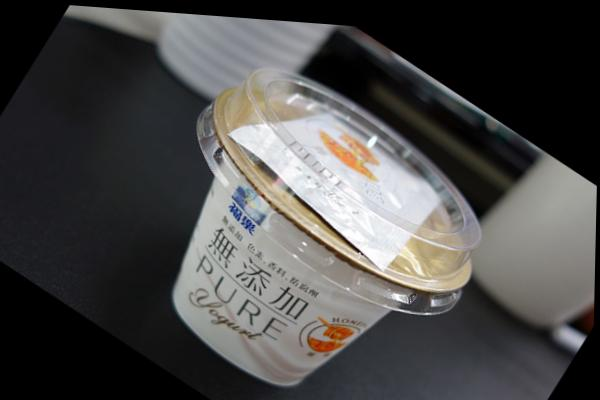plastic: (74, 8, 533, 271)
